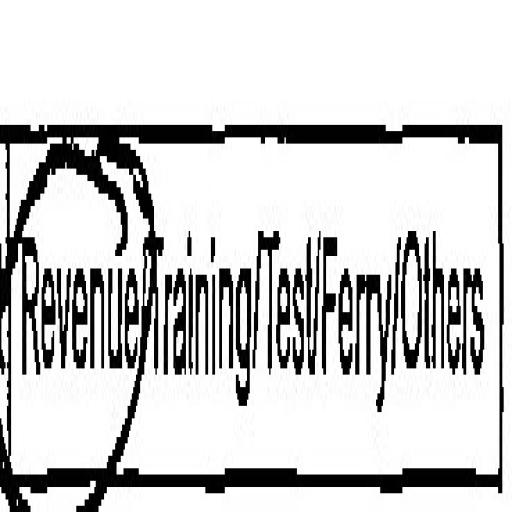check: (5, 0, 146, 512)
